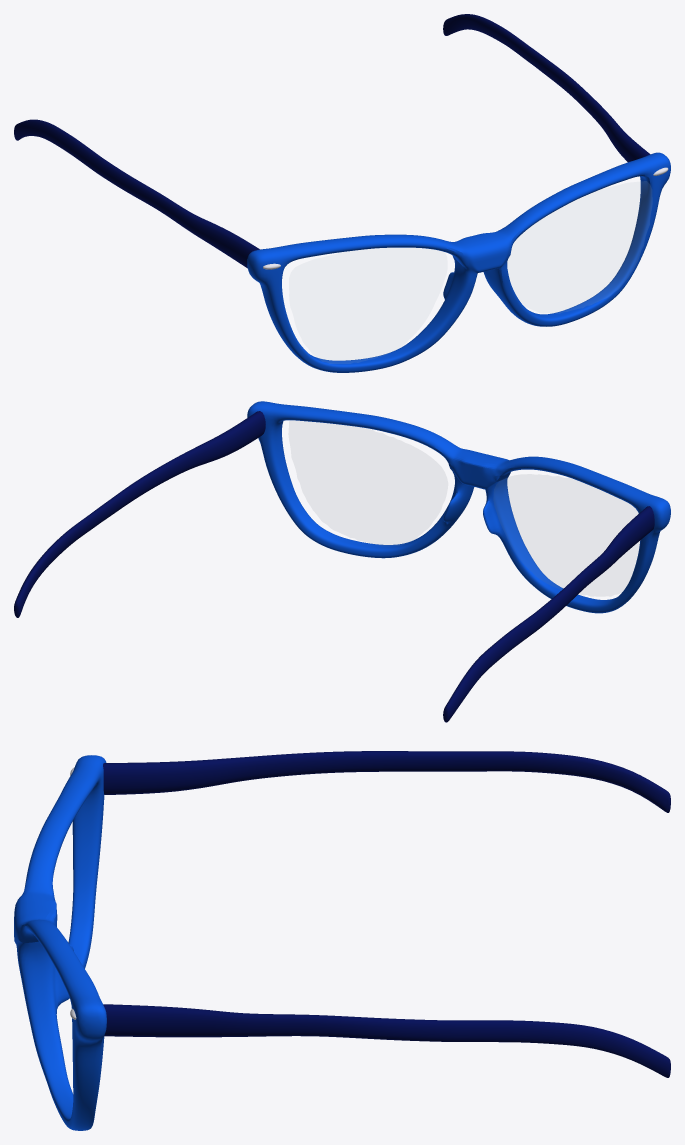
3 views of the same model, one above another, from view 1: azimuth 30°, elevation 25°; view 2: azimuth 150°, elevation 25°; view 3: azimuth 270°, elevation 25° (orthographic). The views are drawn at different scales.
Parts seen in each view (by area): view 1: Cube, Cube_001; view 2: Cube, Cube_001; view 3: Cube_001, Cube.
Part boxes in pixels (x1=…): Cube: x1=247, y1=152, x2=670, y2=372; Cube_001: x1=14, y1=14, x2=650, y2=268; Cube: x1=247, y1=401, x2=670, y2=613; Cube_001: x1=14, y1=411, x2=654, y2=722; Cube_001: x1=103, y1=751, x2=670, y2=1077; Cube: x1=14, y1=755, x2=106, y2=1130.
Size of the model in its own units: 14 by 4.08 by 14.14.
